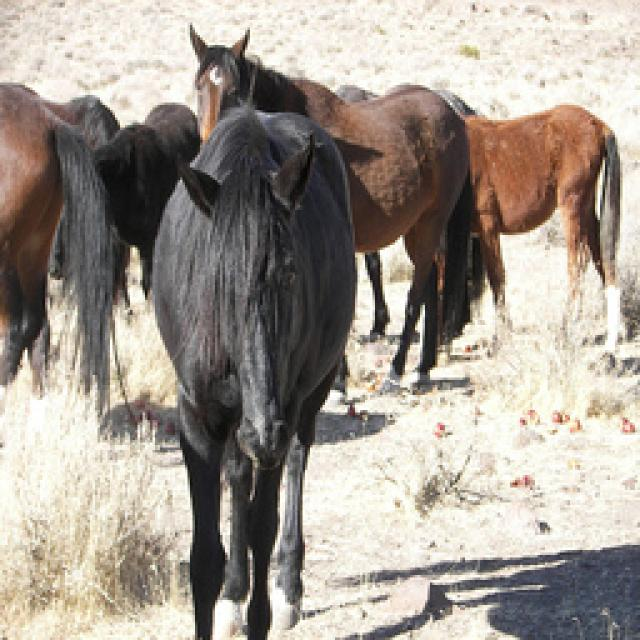Horse: (157, 103, 359, 640), (185, 34, 463, 314), (468, 93, 627, 344)
